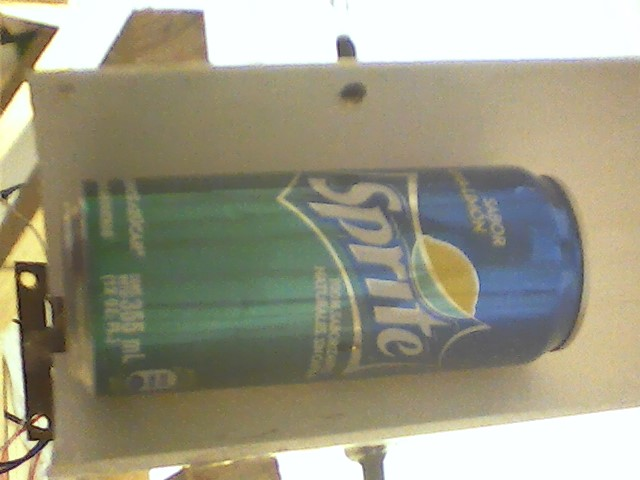lata: (53, 159, 599, 405)
